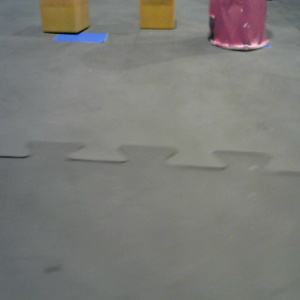Right: (208, 1, 269, 50)
